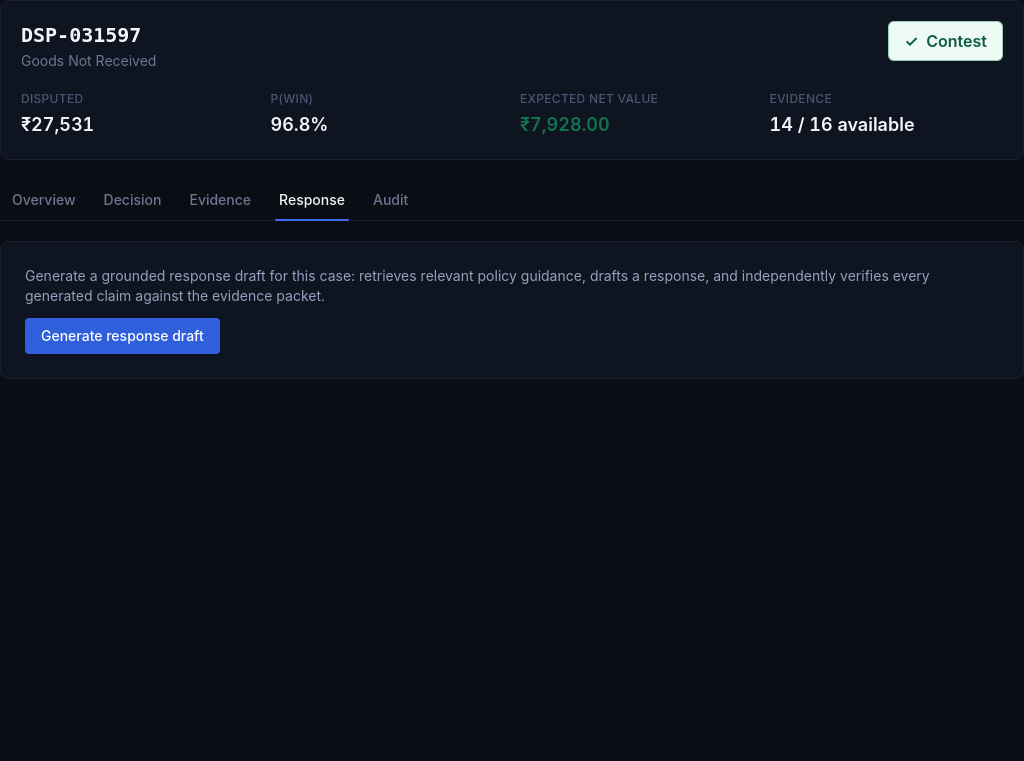
Test: CaseResponsePage › renders an unconfigured provider as generation unavailable
Click the button "Generate response draft". click: (122, 336)
box: [25,318,220,354]
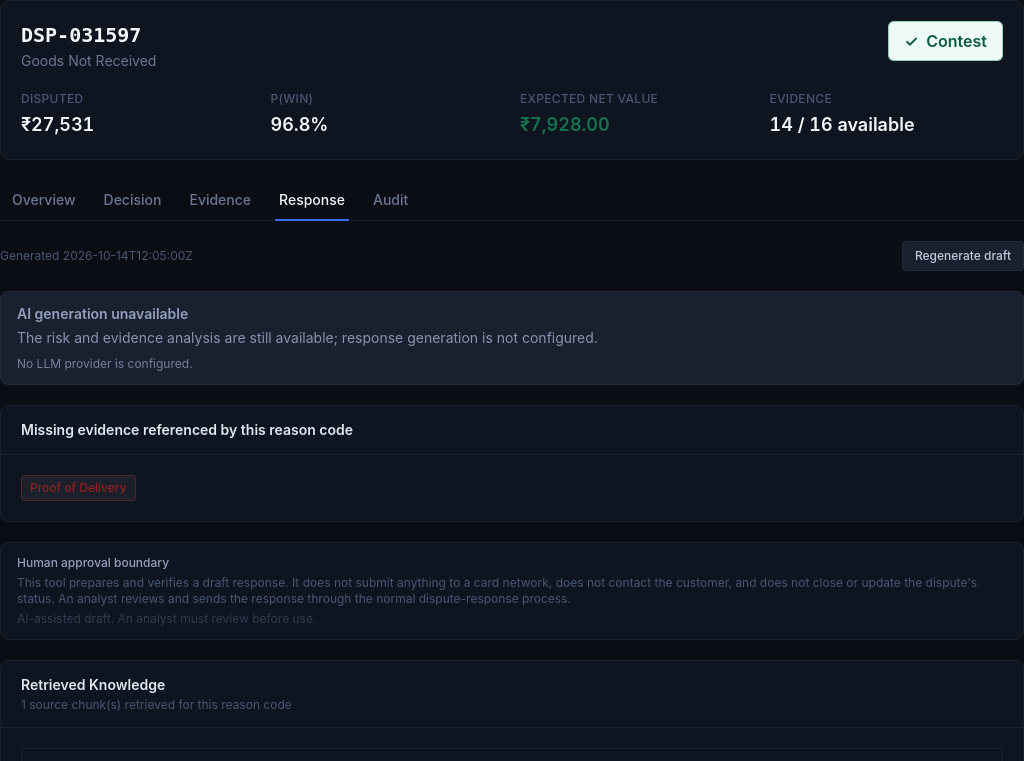
Check: the text "AI generation unavailable" is shown, box [17,305,188,322]
